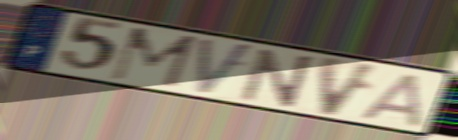5: (57, 15, 127, 77)
A: (358, 71, 424, 130)
M: (107, 25, 201, 90)
N: (237, 46, 318, 109)
V: (317, 53, 384, 120), (195, 35, 258, 98)
